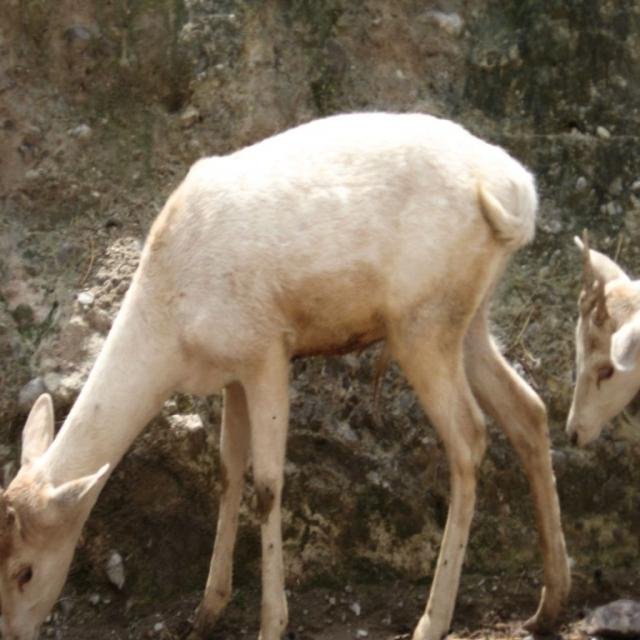Goat: (0, 105, 577, 640), (562, 233, 640, 449)
